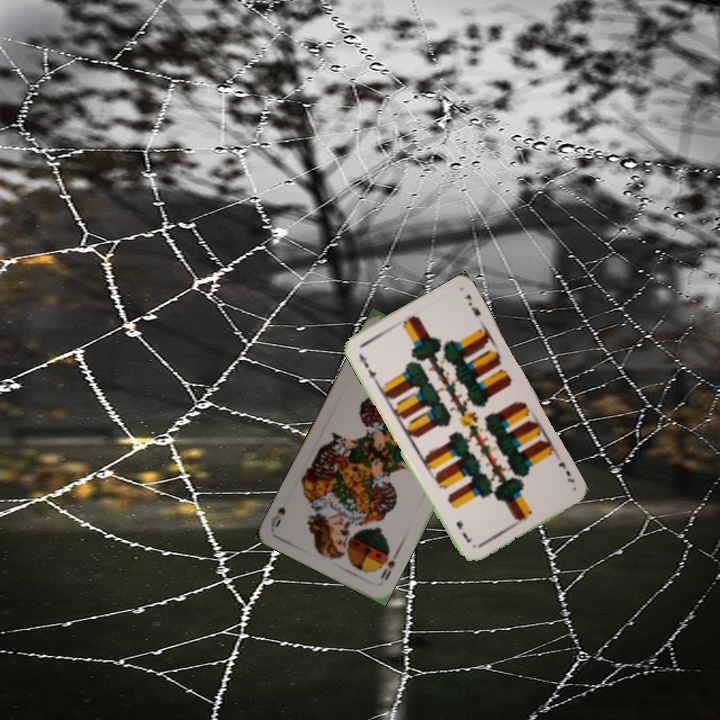E7: (354, 350, 380, 385), (554, 458, 577, 485)
SO: (376, 547, 401, 584)
